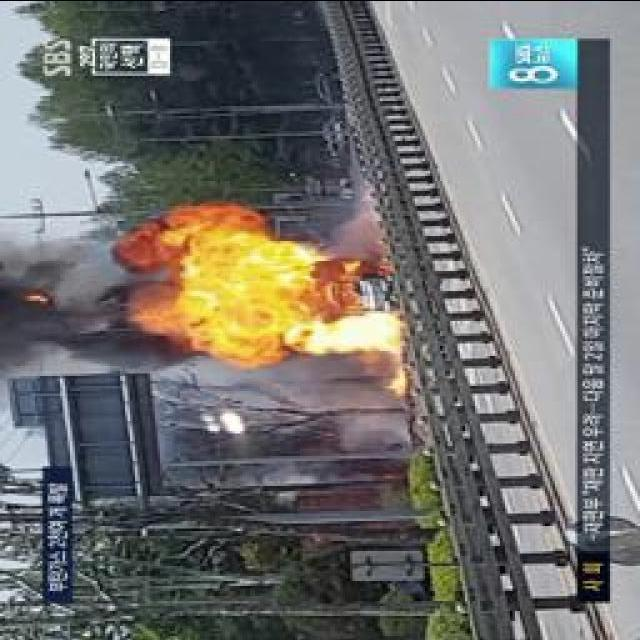Fire: (180, 213, 393, 368)
